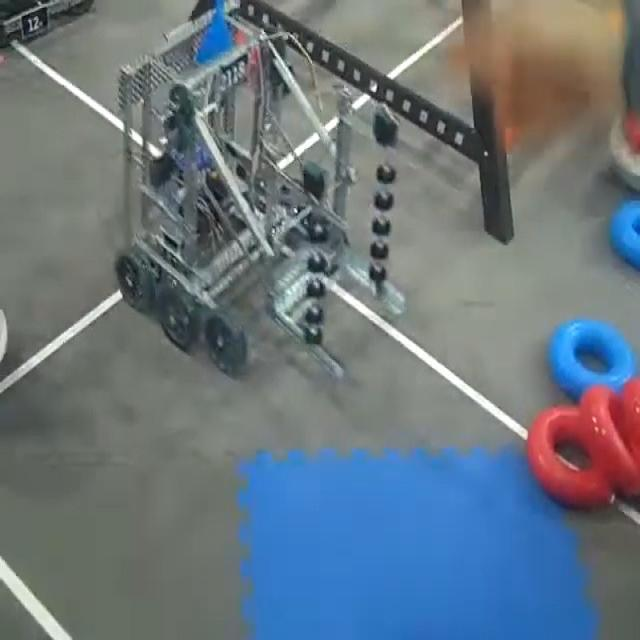Blue-Ring: (546, 318, 635, 399), (611, 201, 640, 269)
Red-Ring: (528, 405, 611, 507), (580, 387, 640, 494), (614, 378, 640, 469)
